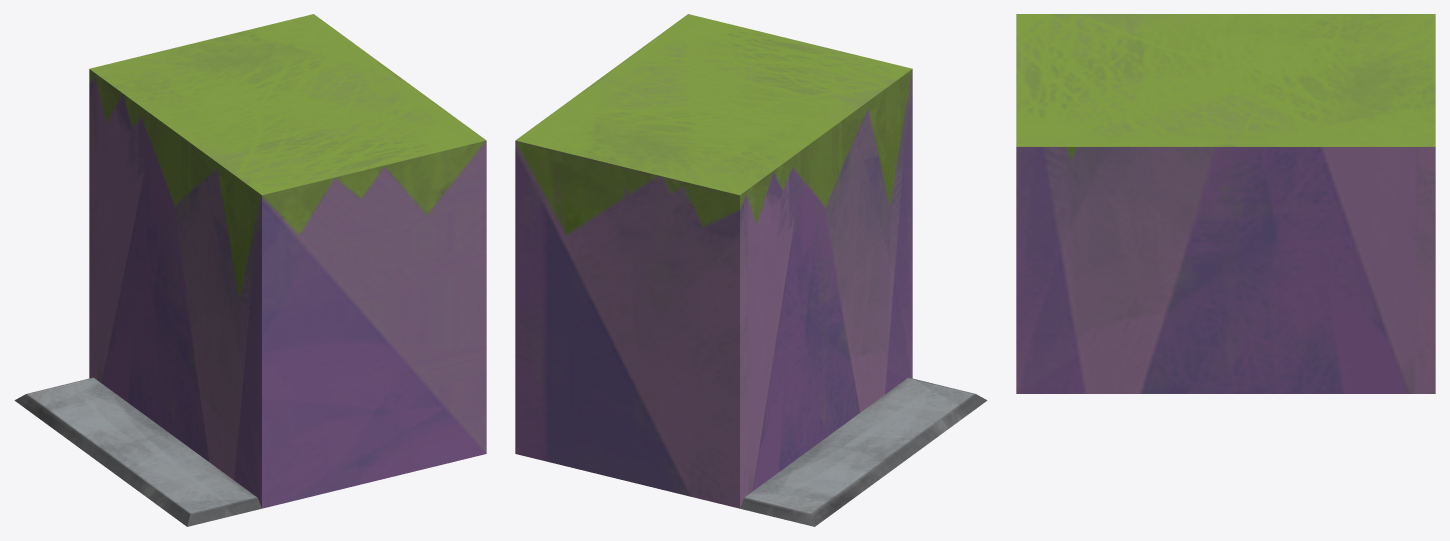
The model's file is wall_thick_straight.fbx.
The picture shows the model from 3 angles, left to right: view 1: azimuth 30°, elevation 25°; view 2: azimuth 150°, elevation 25°; view 3: azimuth 270°, elevation 25°; orthographic projection. The views are drawn at different scales.
Parts seen in each view (by area): view 1: wall_thick_straight; view 2: wall_thick_straight; view 3: wall_thick_straight.
Boxes of the visible parts, <box> form: wall_thick_straight: <box>14,14,486,526</box>; wall_thick_straight: <box>515,14,987,526</box>; wall_thick_straight: <box>1016,14,1435,393</box>.
Size of the model in its own units: 0.02 by 0.02 by 0.02.
